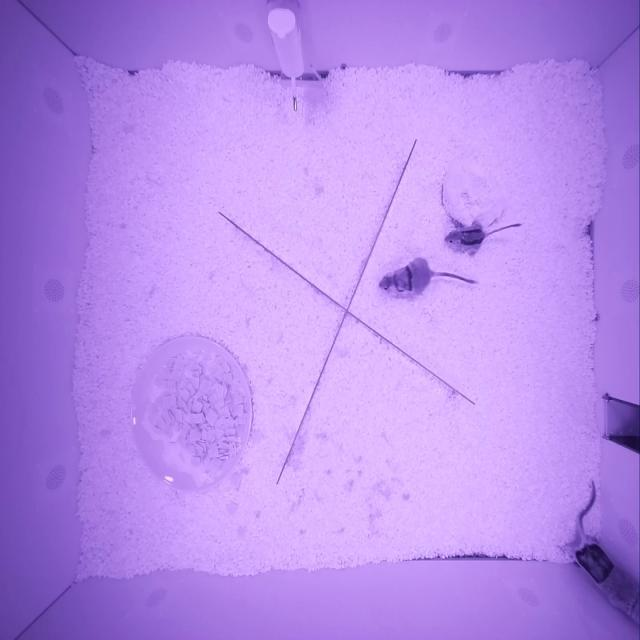adult_back: (572, 541, 640, 625)
adult_front: (378, 258, 431, 296)
pup_v_stripe: (444, 223, 485, 246)
